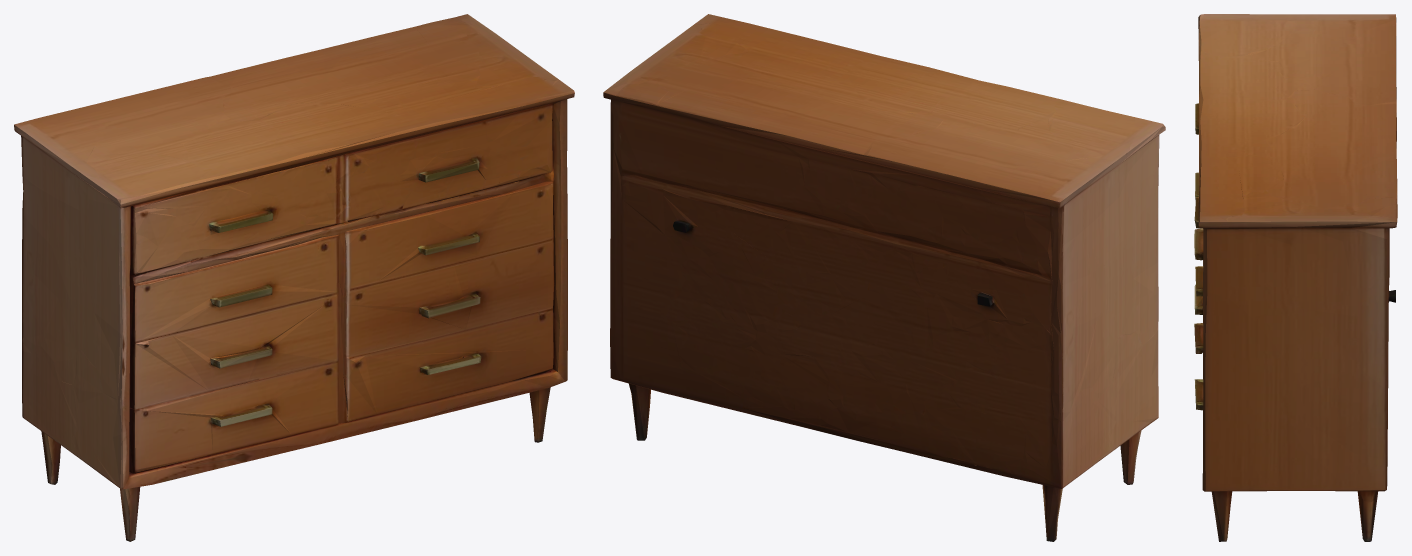
Rendered from dresser.glb.
The picture shows the model from 3 angles, left to right: view 1: azimuth 30°, elevation 25°; view 2: azimuth 150°, elevation 25°; view 3: azimuth 270°, elevation 25°; orthographic projection. The views are drawn at different scales.
Visible parts, largest first — view 1: world; view 2: world; view 3: world.
Part boxes in pixels (x1,y1,x2,y2): world: (14,14,574,541); world: (603,14,1165,541); world: (1194,14,1397,541).
Size of the model in its own units: 1 by 0.744 by 0.4138.
Materials: 1 (1 with a texture image).
